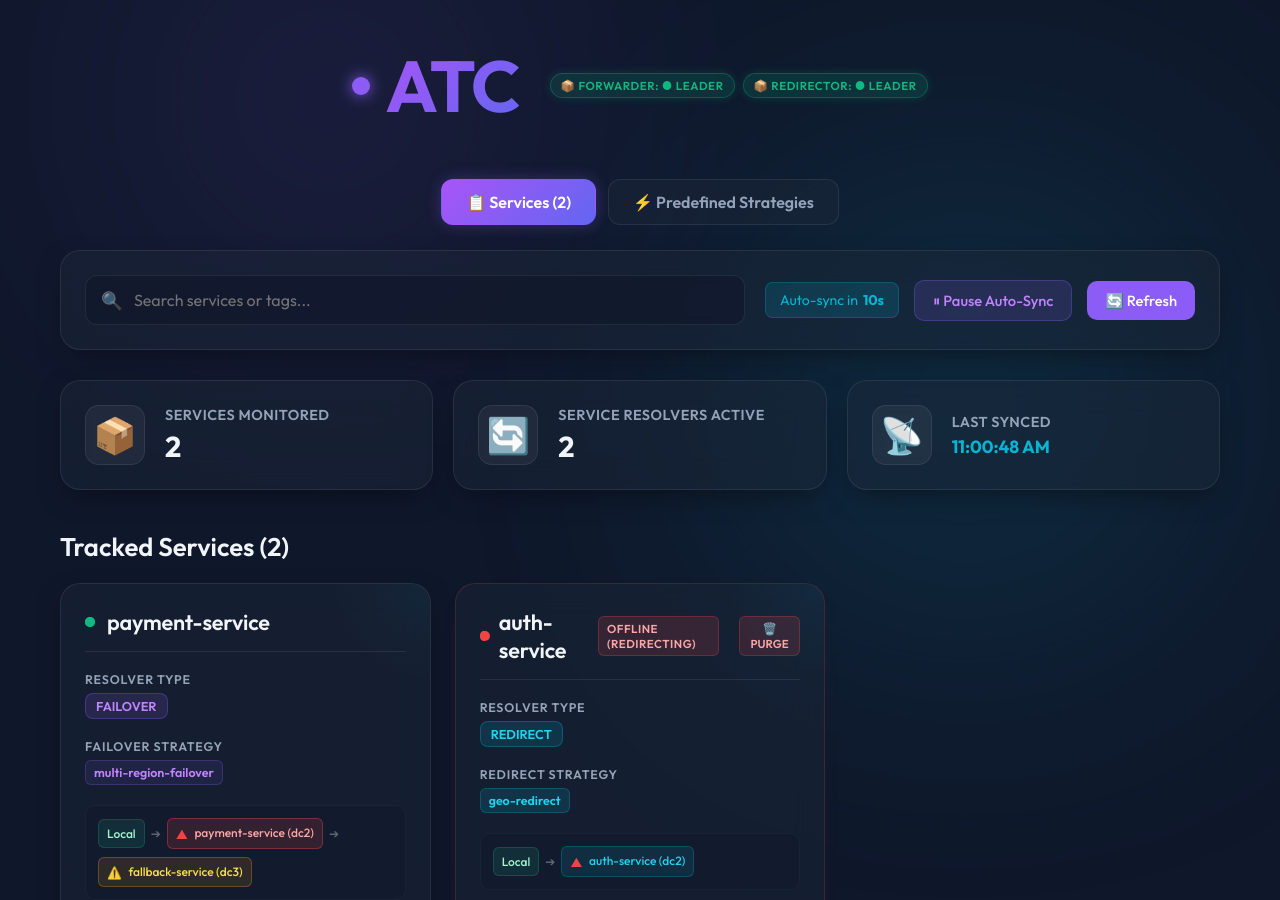
Test: ATC Dashboard App › filters services based on search input
expect the heading "payment-service" is shown: met, box [107,608,270,636]
Type "auth" into the field with class "search-input" at coordinates (415, 300), box [85,275,745,325]
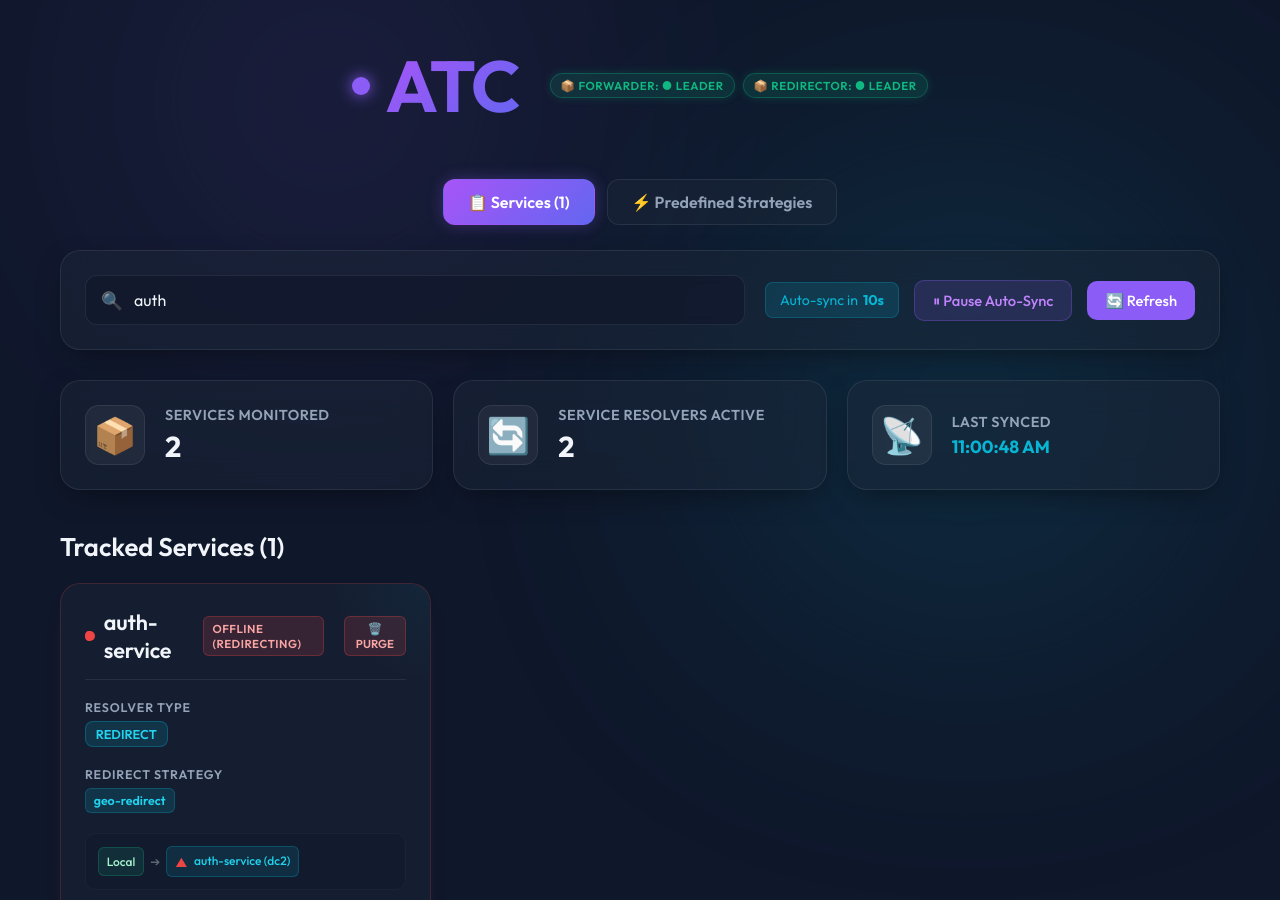
expect the heading "auth-service" is shown: met, box [104,608,172,664]
expect the heading "payment-service" is gone: met
